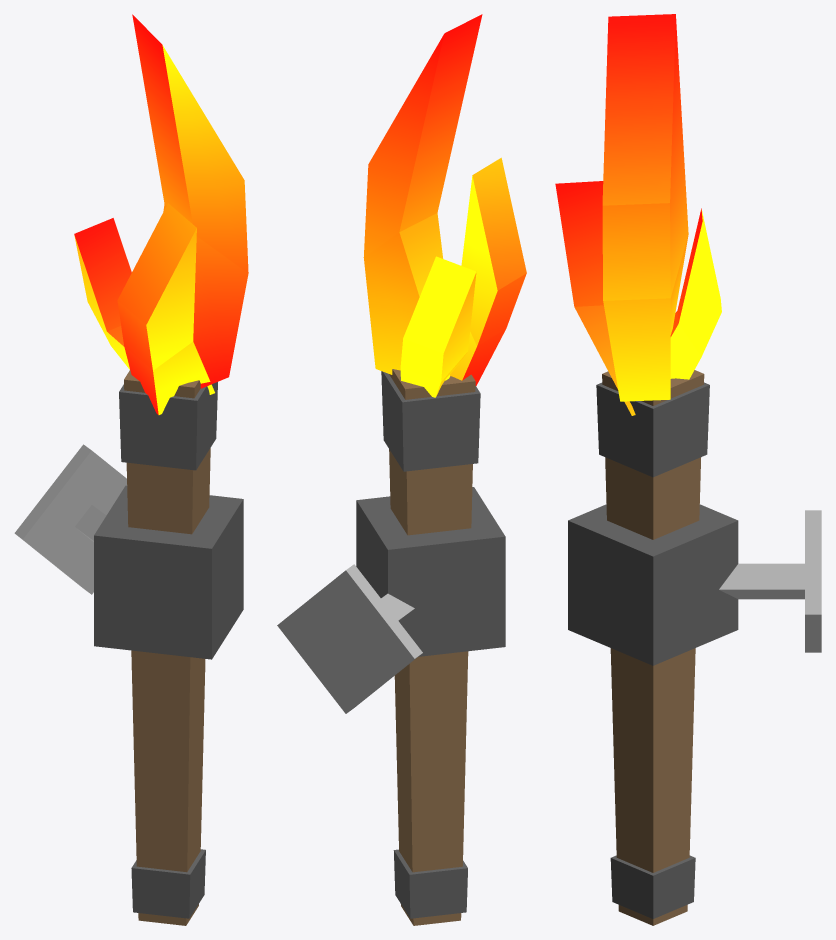
Rendered from Assets.fbx_TorchLit.fbx.
The picture shows the model from 3 angles, left to right: view 1: azimuth 30°, elevation 25°; view 2: azimuth 150°, elevation 25°; view 3: azimuth 270°, elevation 25°; orthographic projection.
Parts seen in each view (by area): view 1: TorchLit; view 2: TorchLit; view 3: TorchLit.
Part boxes in pixels (x1=…): TorchLit: x1=14, y1=14, x2=248, y2=925; TorchLit: x1=277, y1=14, x2=526, y2=925; TorchLit: x1=555, y1=14, x2=821, y2=925.
Bounding box in the file's own units: 15.34 × 87.85 × 23.94.
